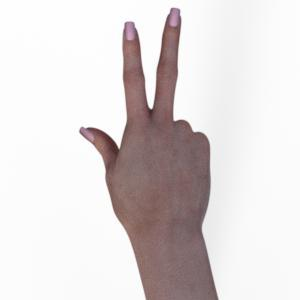scissors: (80, 8, 218, 300)
